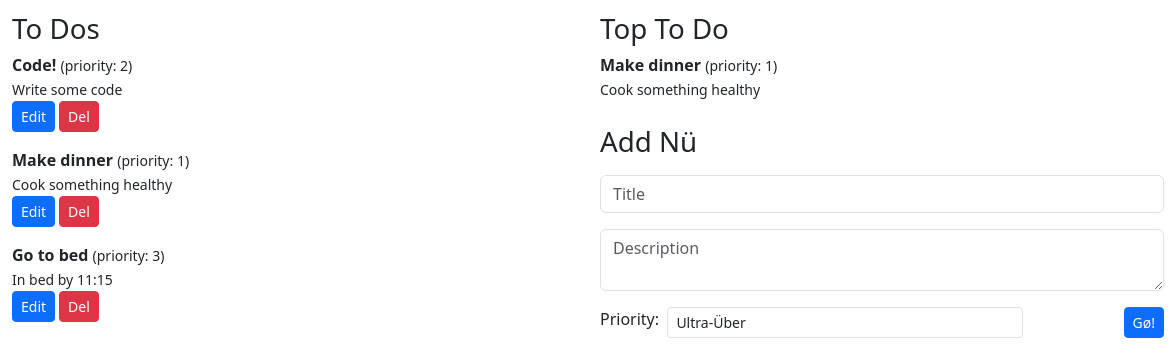
Test case: delete a todo
expect the text "Code!" is shown: met, box [12, 54, 56, 76]
expect the text "Write some code" is shown: met, box [12, 80, 122, 99]
Click the button with class "EditableTodo-delBtn" below "Write some code": (79, 117) [59, 101, 99, 132]
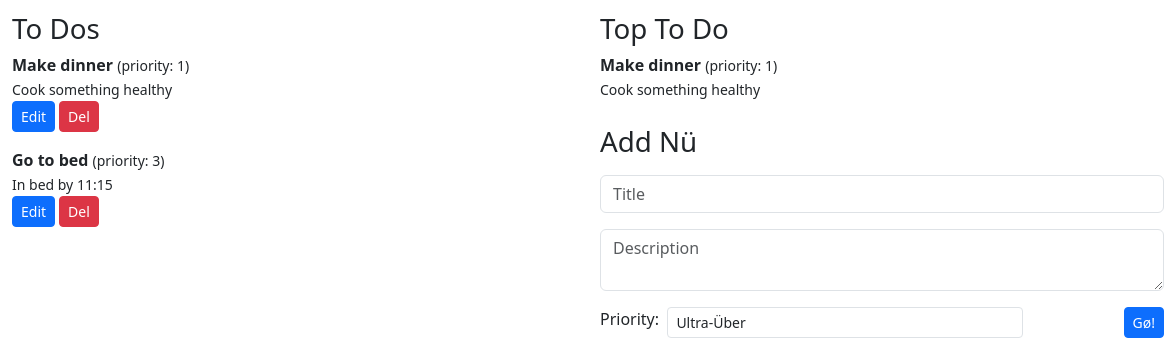
expect the text "Code!" is gone: met
expect the text "Write some code" is gone: met
